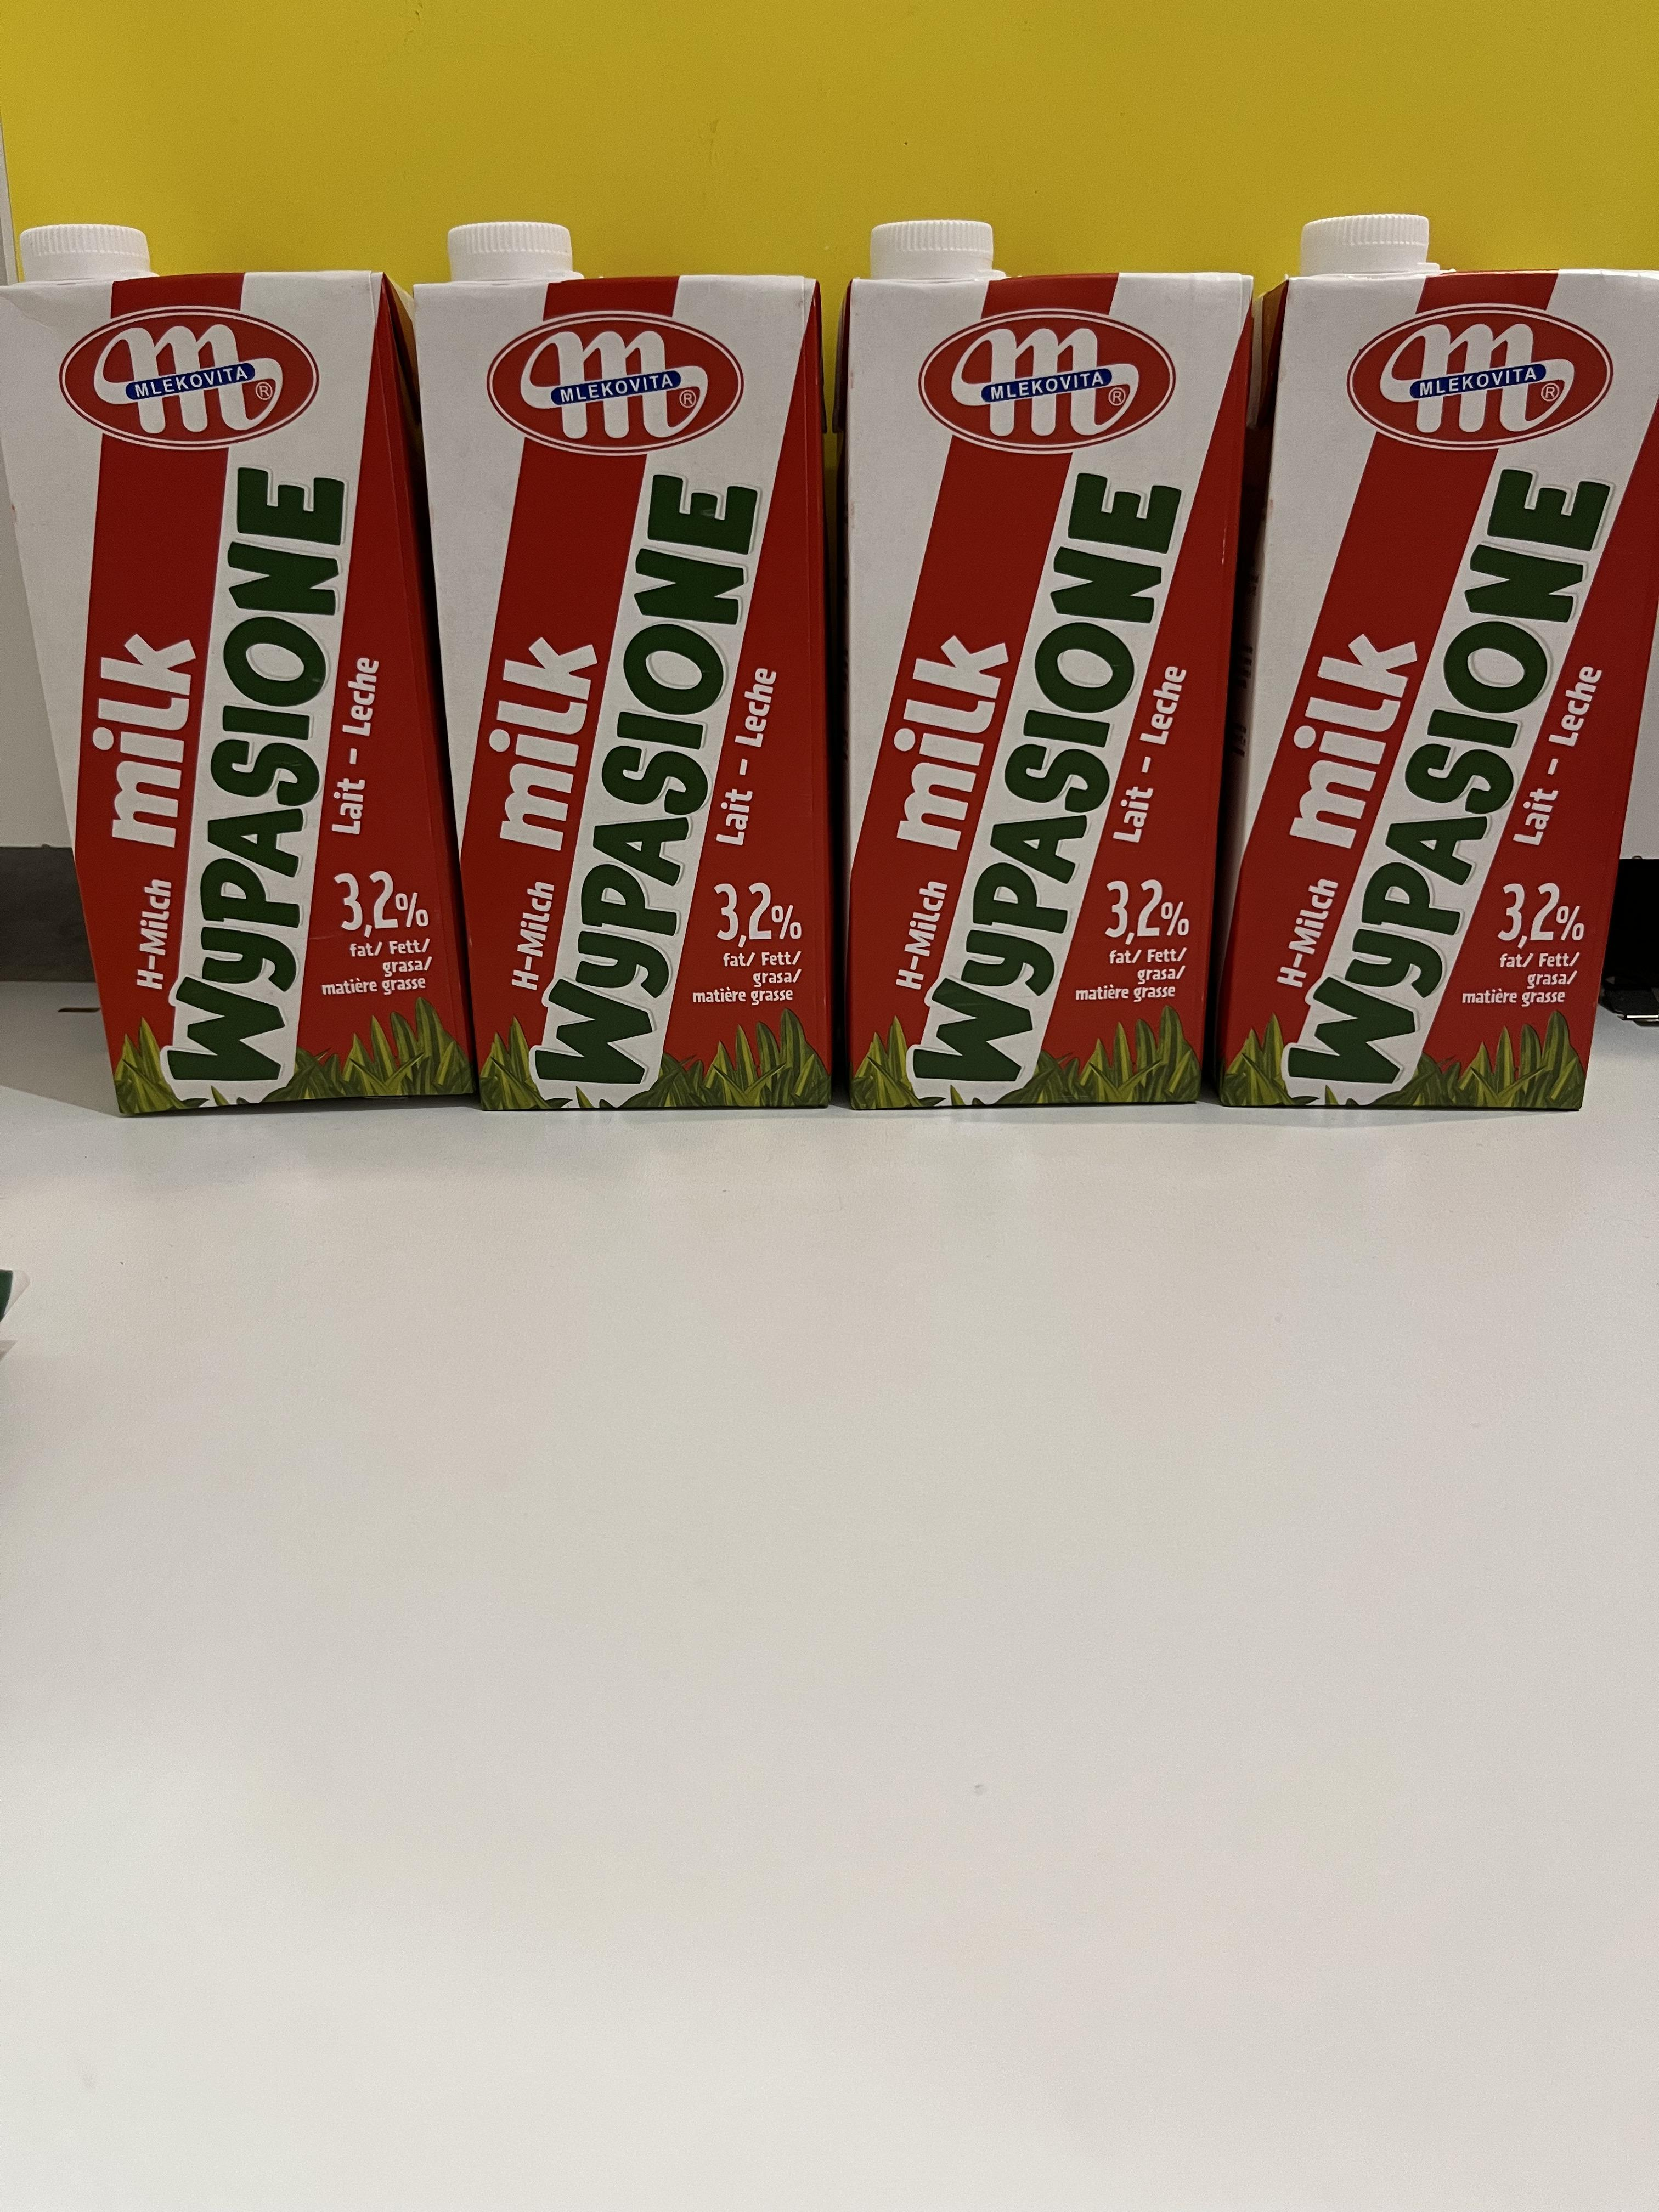Milk: (9, 277, 465, 1116), (410, 286, 847, 1111), (830, 272, 1229, 1120), (1283, 266, 1598, 1127)
